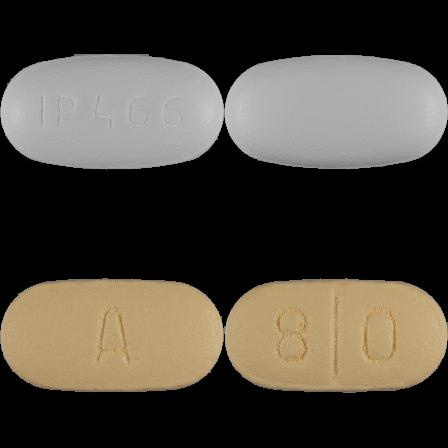45865-373: (0, 0, 224, 224)
